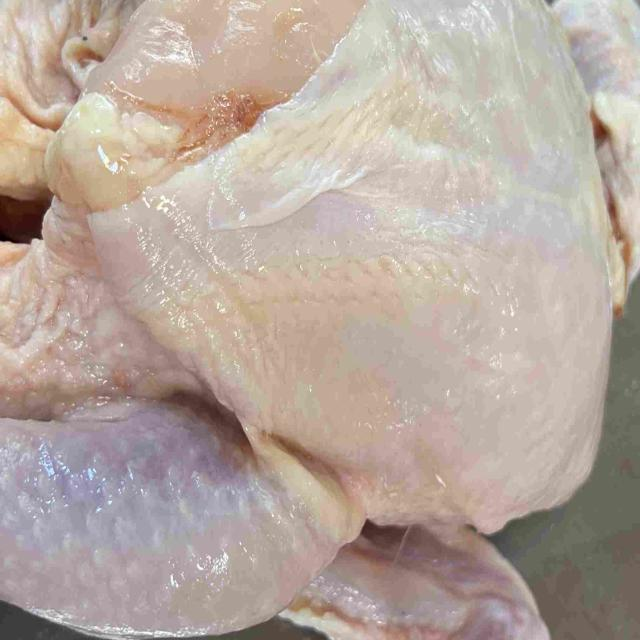breast: (61, 0, 615, 527)
leg: (0, 391, 337, 628)
neck: (555, 0, 640, 300)
wing: (285, 518, 551, 640)
